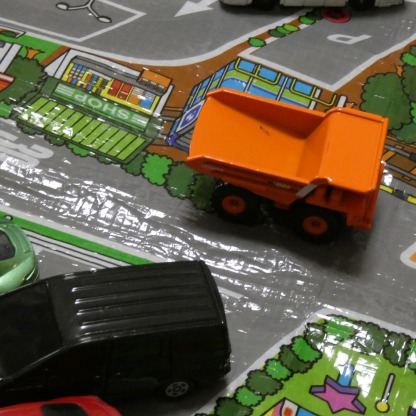car: (0, 255, 231, 408), (187, 88, 389, 242)
